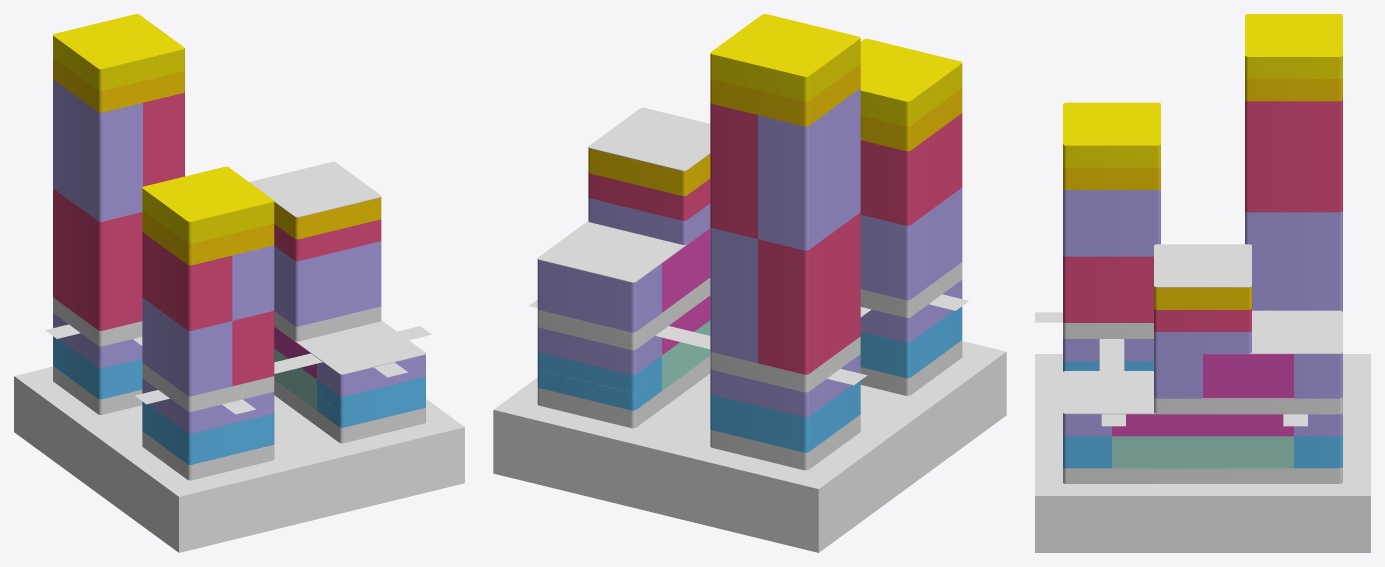
3 renders of one model, left to right at view 1: azimuth 30°, elevation 25°; view 2: azimuth 150°, elevation 25°; view 3: azimuth 270°, elevation 25°, orthographic. The views are drawn at different scales.
Parts seen in each view (by area): view 1: Komponente#1, Komponente#4 (×22), Komponente#5 (×17), Komponente#7 (×2), Komponente#6 (×3), Komponente#17 (×2), Komponente#3 (×4), Komponente#2 (×4), Komponente#13 (×2), Komponente#12, Komponente#18, Komponente#15; view 2: Komponente#1, Komponente#4 (×32), Komponente#5 (×15), Komponente#7 (×2), Komponente#17 (×2), Komponente#6 (×3), Komponente#3 (×4), Komponente#2 (×4), Komponente#13 (×2), Komponente#18, Komponente#12, Komponente#15 (×2) (+2 smaller); view 3: Komponente#1, Komponente#4 (×26), Komponente#5 (×9), Komponente#7 (×2), Komponente#17 (×3), Komponente#16 (×8), Komponente#6 (×3), Komponente#15 (×4), Komponente#12, Komponente#13 (×4), Komponente#18, Komponente#2 (+2 smaller).
Boxes of the visible parts, x1,y1,x2,y2 form: Komponente#1: [14, 366, 464, 552]; Komponente#4 (×22): [75, 96, 425, 433]; Komponente#5 (×17): [53, 92, 381, 386]; Komponente#7 (×2): [53, 14, 274, 243]; Komponente#6 (×3): [53, 57, 381, 265]; Komponente#17 (×2): [250, 161, 425, 374]; Komponente#3 (×4): [53, 336, 274, 464]; Komponente#2 (×4): [53, 297, 274, 480]; Komponente#13 (×2): [317, 376, 425, 427]; Komponente#12: [274, 380, 425, 443]; Komponente#18: [274, 306, 381, 341]; Komponente#15: [274, 371, 316, 410]; Komponente#1: [493, 341, 1006, 552]; Komponente#4 (×32): [537, 88, 962, 417]; Komponente#5 (×15): [588, 103, 962, 374]; Komponente#7 (×2): [710, 14, 962, 126]; Komponente#17 (×2): [537, 107, 710, 282]; Komponente#6 (×3): [588, 63, 962, 195]; Komponente#3 (×4): [710, 306, 962, 452]; Komponente#2 (×4): [710, 262, 962, 470]; Komponente#13 (×2): [537, 352, 661, 410]; Komponente#18: [537, 278, 710, 350]; Komponente#12: [537, 356, 710, 428]; Komponente#15 (×2): [662, 320, 710, 390]; Komponente#1: [1035, 354, 1370, 552]; Komponente#4 (×26): [1063, 189, 1342, 436]; Komponente#5 (×9): [1063, 100, 1342, 331]; Komponente#7 (×2): [1063, 14, 1342, 167]; Komponente#17 (×3): [1063, 244, 1342, 414]; Komponente#16 (×8): [1112, 354, 1293, 436]; Komponente#6 (×3): [1063, 78, 1342, 309]; Komponente#15 (×4): [1112, 436, 1293, 468]; Komponente#12: [1063, 467, 1342, 483]; Komponente#13 (×4): [1063, 435, 1342, 468]; Komponente#18: [1154, 397, 1342, 414]; Komponente#2: [1063, 322, 1153, 338].
Bounding box in the file's own units: 96 × 129 × 96.
